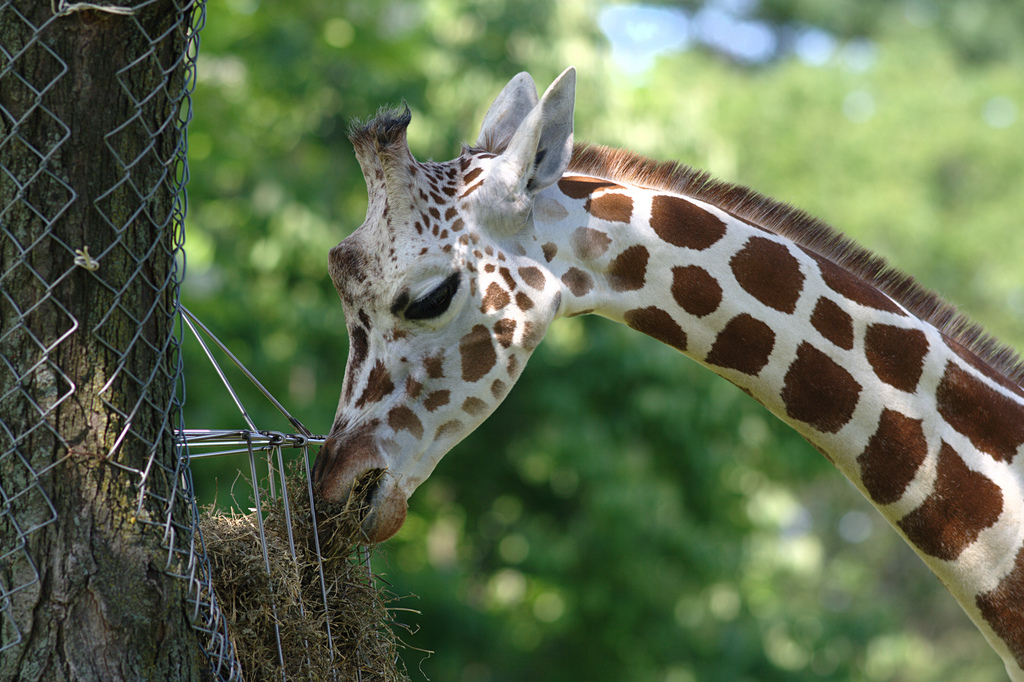giraffe: (284, 85, 999, 616)
